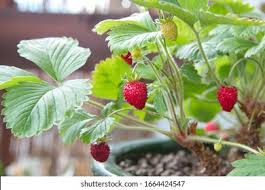ripe: (121, 76, 152, 111), (212, 80, 240, 115), (87, 136, 112, 165)
unripe: (159, 14, 177, 46)
